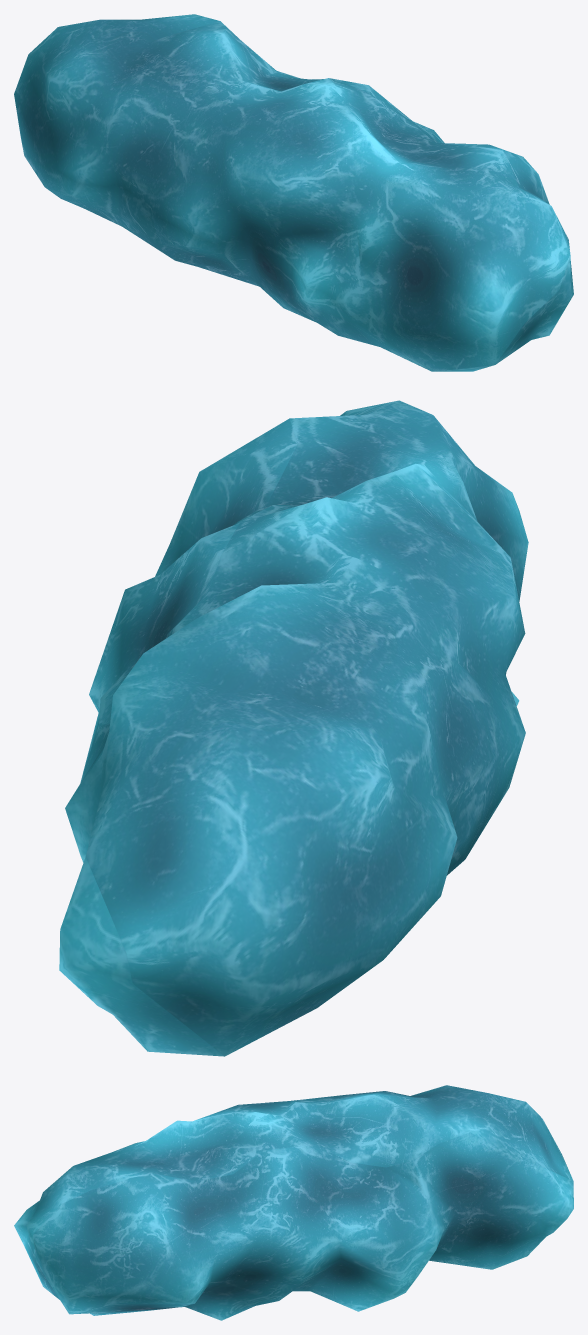
The model's file is block.glb.
3 views of the same model, one above another, from view 1: azimuth 30°, elevation 25°; view 2: azimuth 150°, elevation 25°; view 3: azimuth 270°, elevation 25° (orthographic). The views are drawn at different scales.
Visible parts, largest first — view 1: rock_low; view 2: rock_low; view 3: rock_low.
Boxes of the visible parts, left/top/right/bottom form: rock_low: left=14, top=14, right=573, bottom=371; rock_low: left=59, top=400, right=528, bottom=1056; rock_low: left=14, top=1085, right=573, bottom=1320.
Bounding box in the file's own units: 1.07 × 0.7724 × 2.
Materials: 1 (1 with a texture image).
